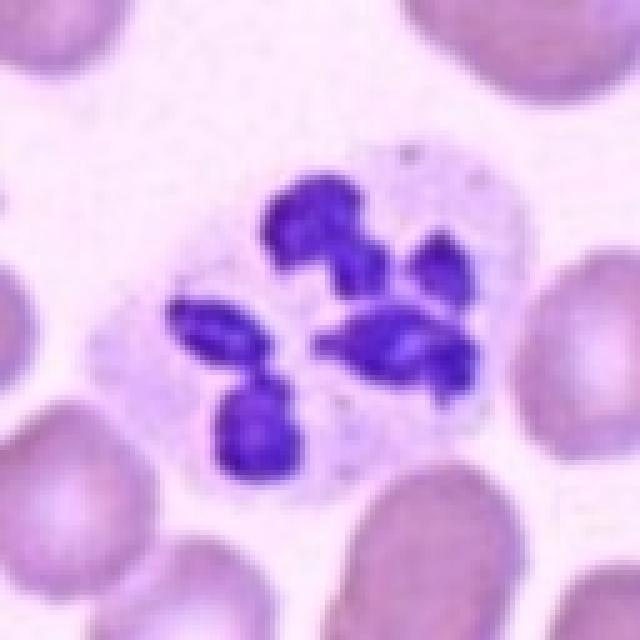neutro: (224, 146, 615, 536)
